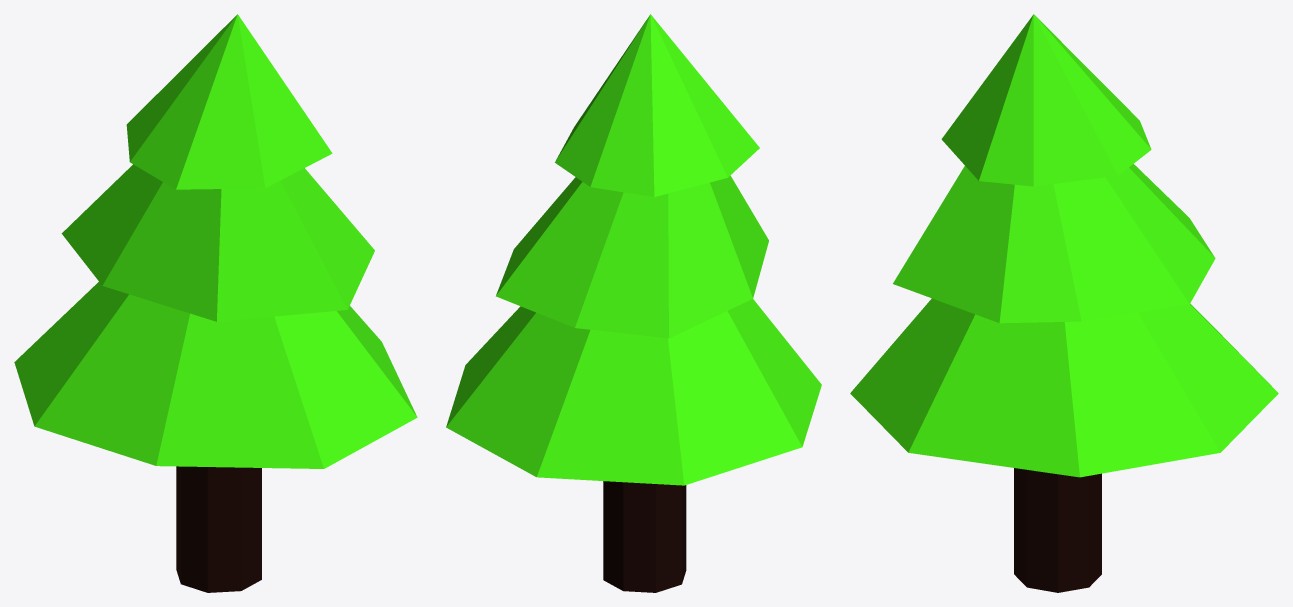
The model's file is arvore.obj.
The picture shows the model from 3 angles, left to right: view 1: azimuth 30°, elevation 25°; view 2: azimuth 150°, elevation 25°; view 3: azimuth 270°, elevation 25°; orthographic projection. The views are drawn at different scales.
Parts seen in each view (by area): view 1: Cylinder_Material.002_0, Cylinder_Material.001_0; view 2: Cylinder_Material.002_0, Cylinder_Material.001_0; view 3: Cylinder_Material.002_0, Cylinder_Material.001_0.
Part boxes in pixels (x1,y1,x2,y2): Cylinder_Material.002_0: (14, 14, 417, 468); Cylinder_Material.001_0: (176, 466, 261, 592); Cylinder_Material.002_0: (446, 14, 821, 485); Cylinder_Material.001_0: (603, 481, 686, 592); Cylinder_Material.002_0: (850, 14, 1278, 477); Cylinder_Material.001_0: (1014, 468, 1101, 592).
Size of the model in its own units: 279 by 436 by 301.
